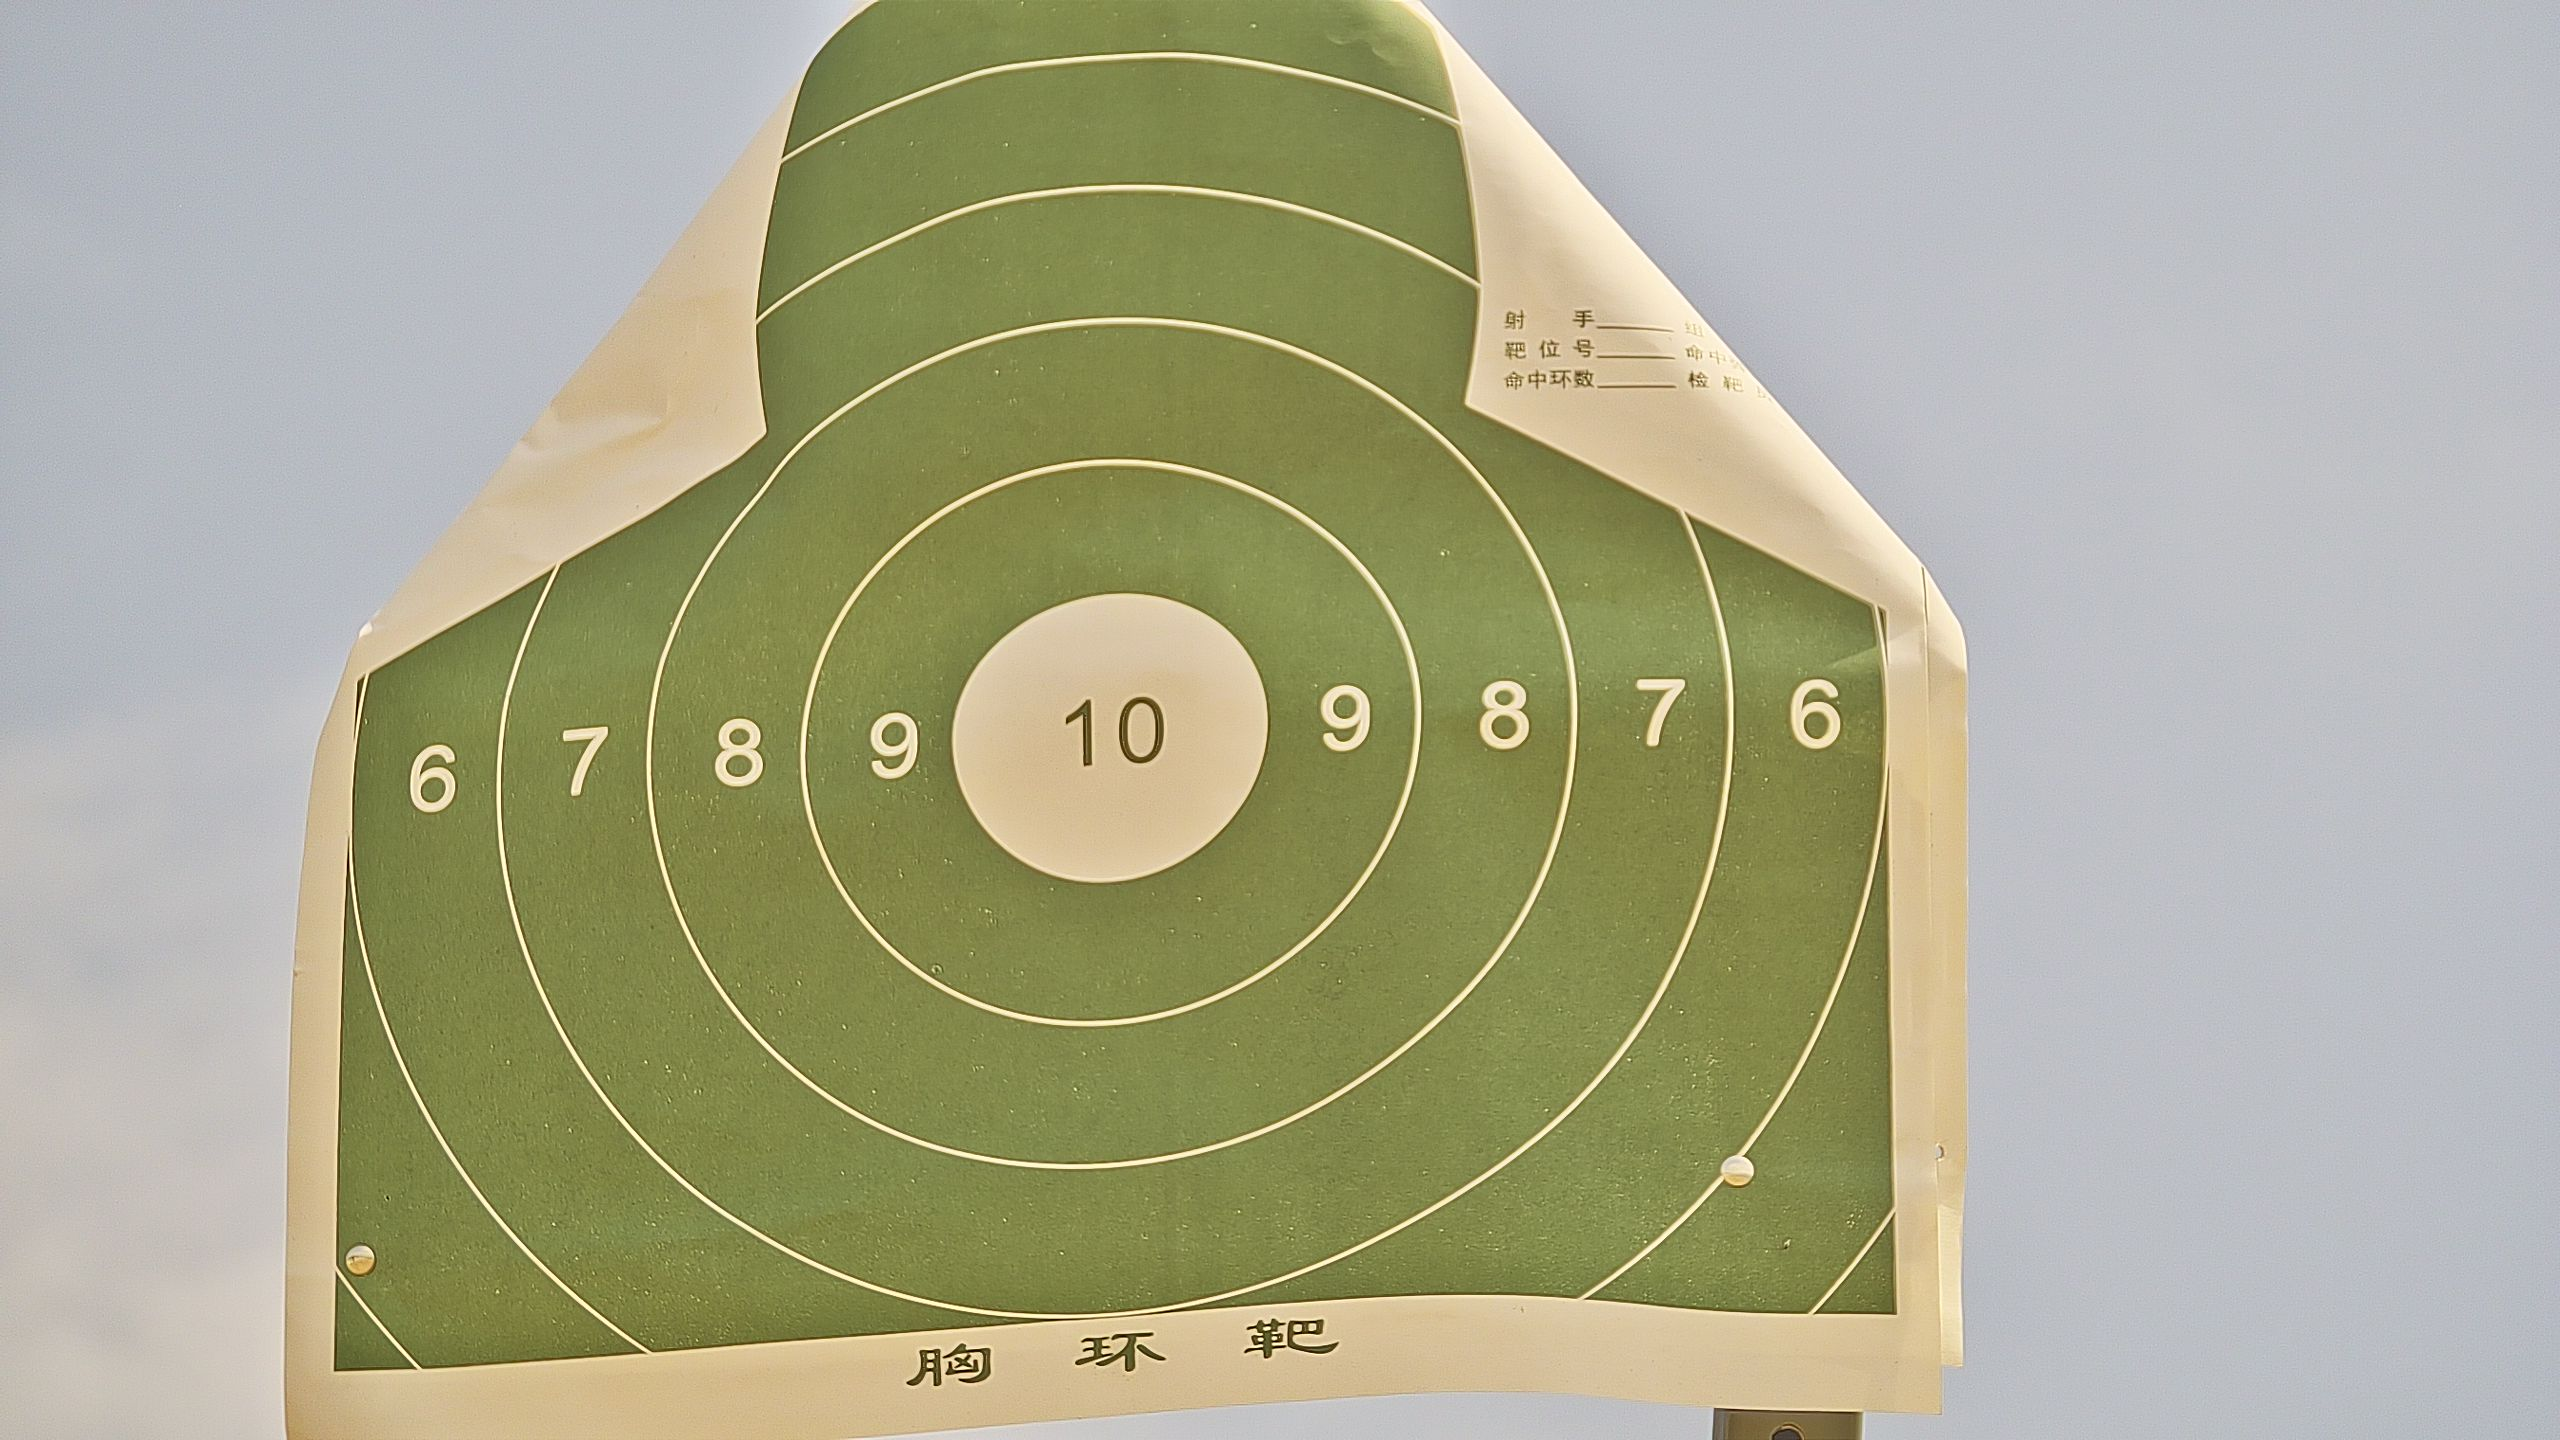kernel: (1102, 731, 1104, 738)
target: (332, 2, 1901, 1377)
ten: (944, 593, 1276, 890)
